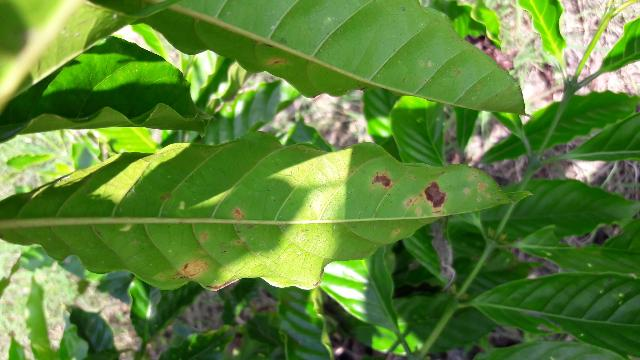rust_level_1: (0, 131, 529, 291)
